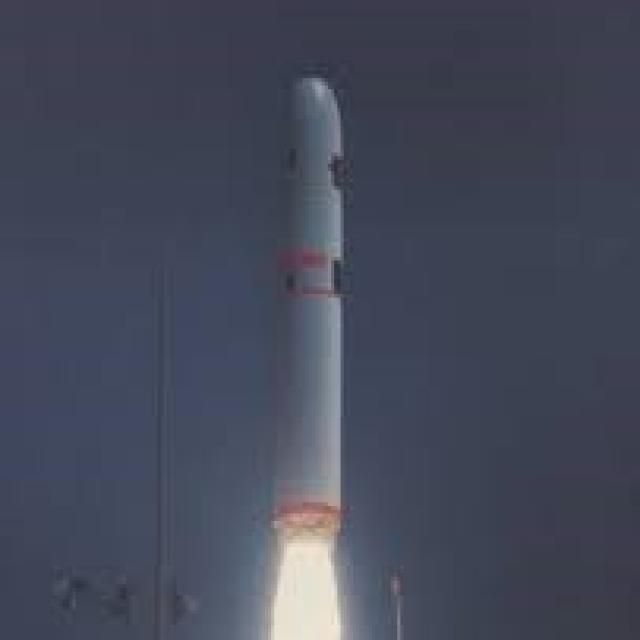missile: (267, 69, 346, 554)
